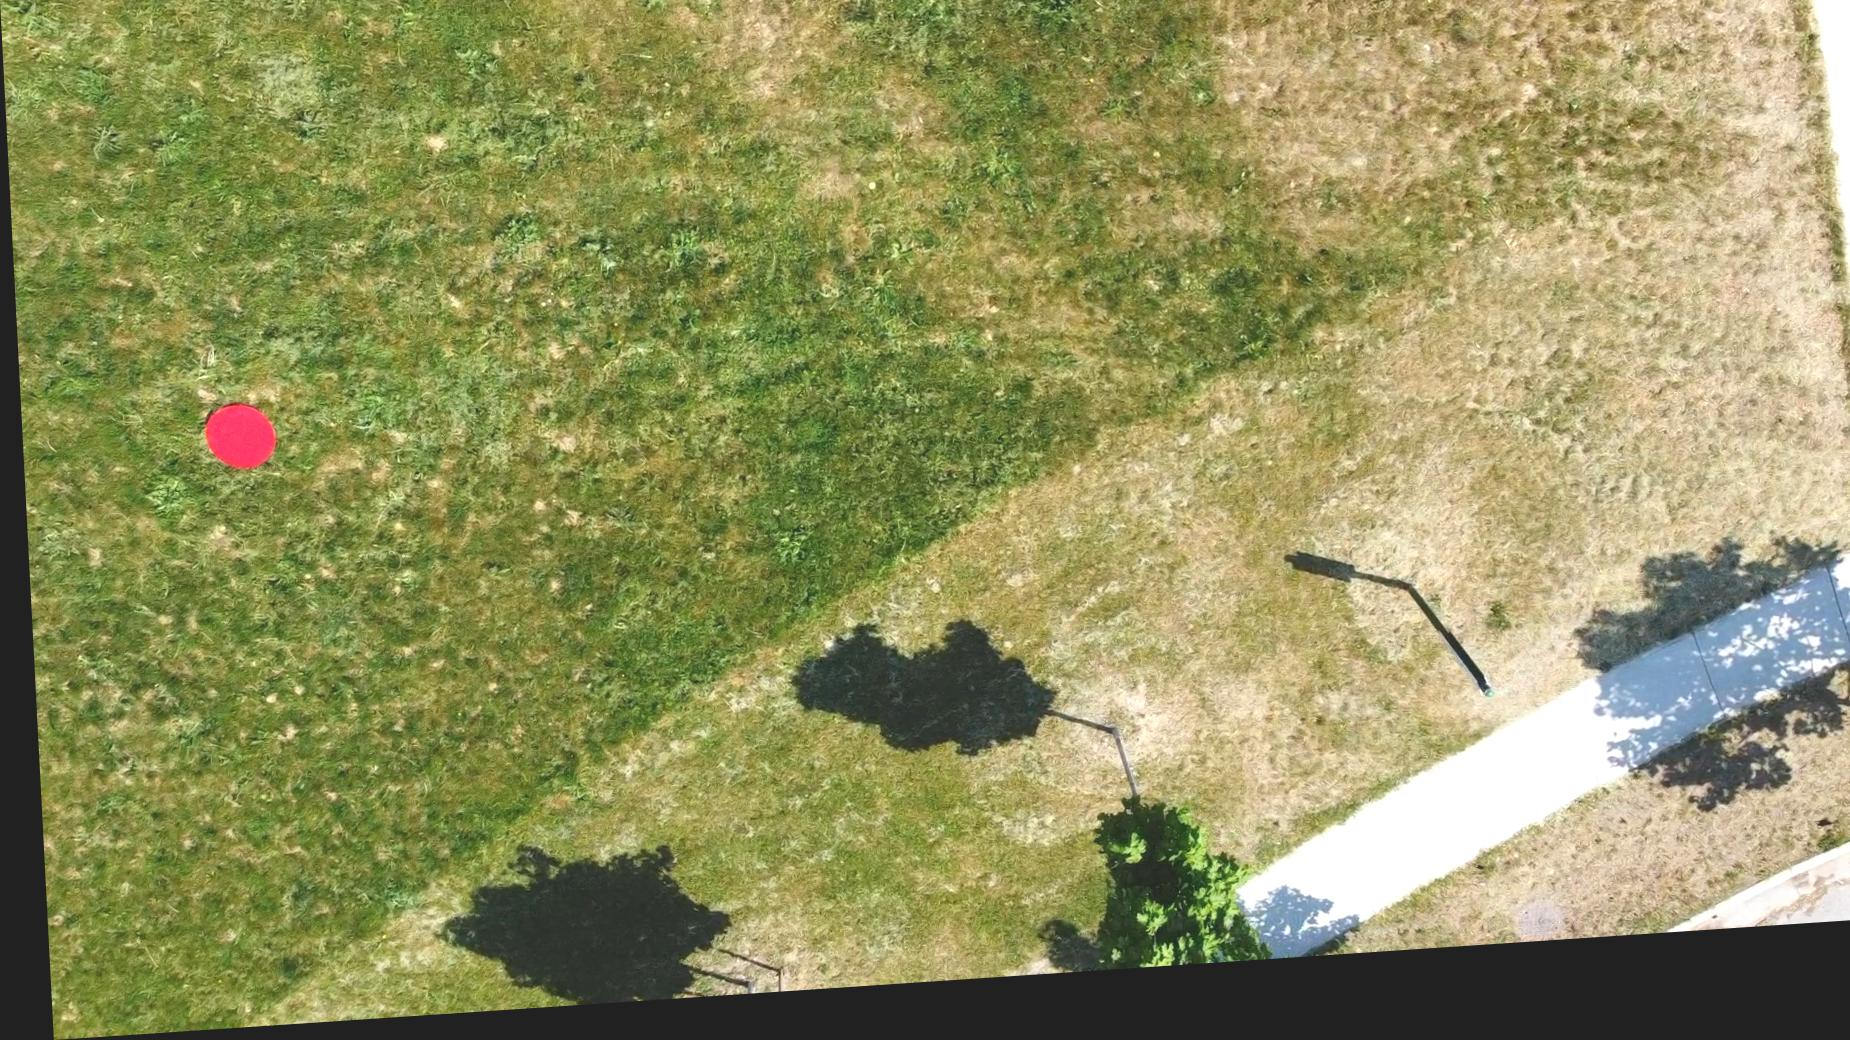Red: (197, 404, 274, 475)
